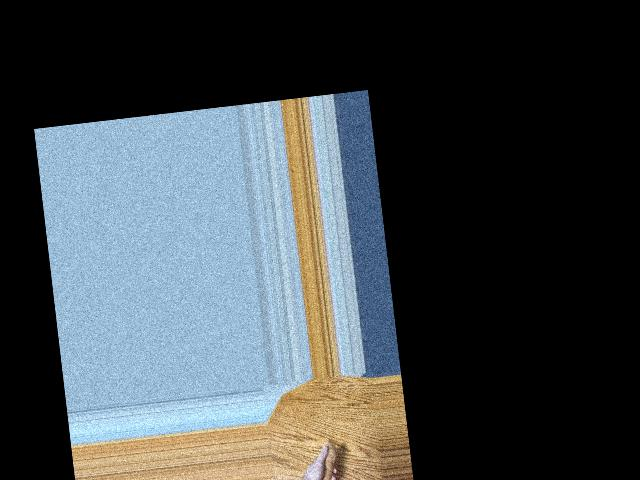sweet_potato: (303, 441, 346, 480)
